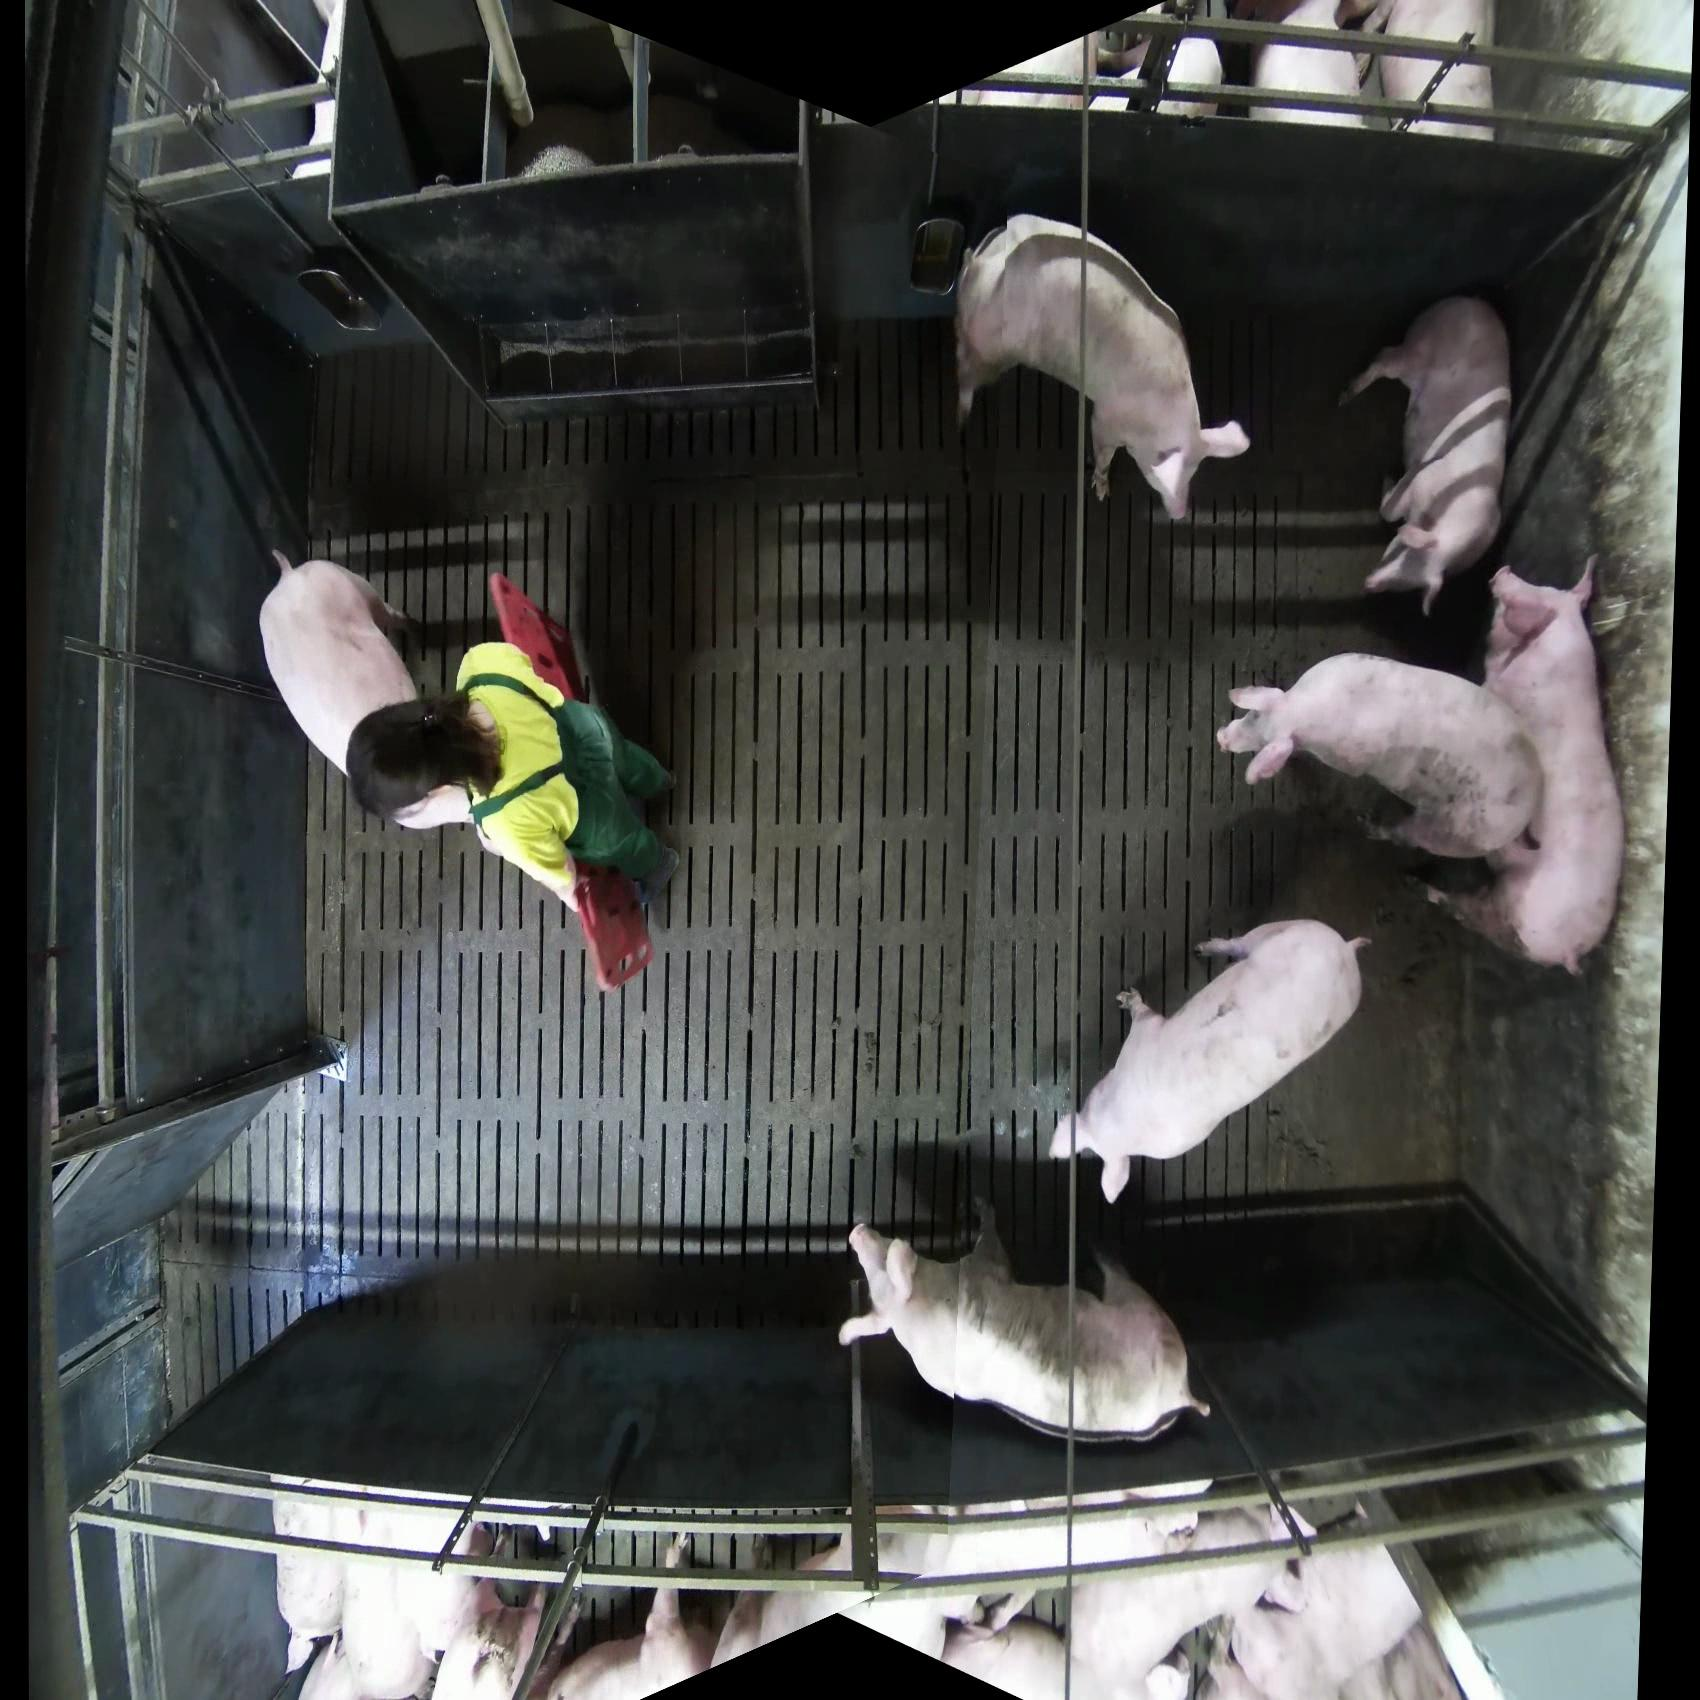pig: (1406, 553, 1628, 978), (837, 1194, 1212, 1445), (952, 212, 1252, 524), (1049, 917, 1371, 1205), (1214, 650, 1547, 861), (257, 547, 476, 833), (1337, 293, 1515, 617), (272, 1494, 546, 1700), (1066, 1496, 1318, 1698), (1212, 1501, 1463, 1700), (539, 1534, 742, 1699), (956, 17, 1225, 121), (1232, 1, 1382, 129), (1373, 1, 1497, 142), (1094, 5, 1226, 122)
worker: (257, 546, 682, 992)
